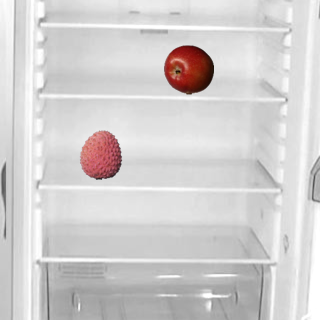Apple Braeburn: (163, 44, 213, 94)
Lychee: (75, 129, 125, 179)
